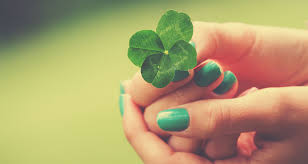4-clover: (127, 11, 198, 86)
